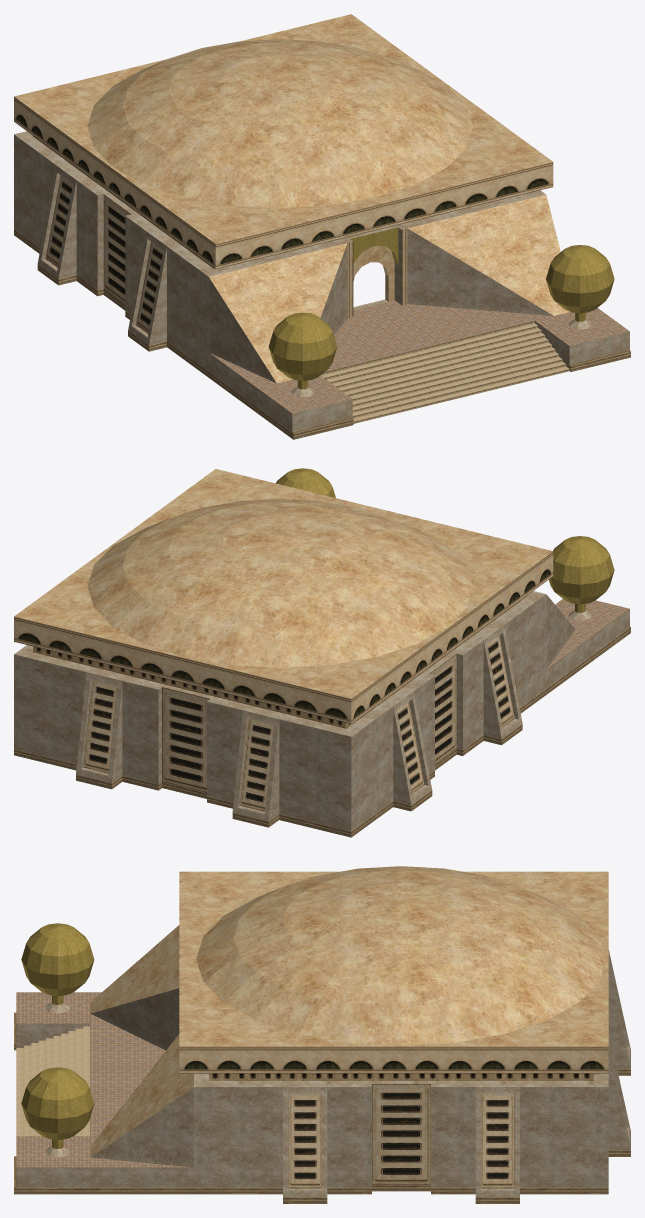
File: mun_tato_guild_commerce_s01_r0_exterior_mesh_tato_guildcommerce_l0.fbx
The picture shows the model from 3 angles, top to bottom: view 1: azimuth 30°, elevation 25°; view 2: azimuth 150°, elevation 25°; view 3: azimuth 270°, elevation 25°; orthographic projection. The views are drawn at different scales.
Parts seen in each view (by area): view 1: mesh_node; view 2: mesh_node; view 3: mesh_node.
Boxes of the visible parts, bbox=[...] form: mesh_node: bbox=[14, 14, 630, 439]; mesh_node: bbox=[14, 468, 630, 837]; mesh_node: bbox=[14, 866, 630, 1203].
Size of the model in its own units: 38.75 by 18.75 by 52.08.
